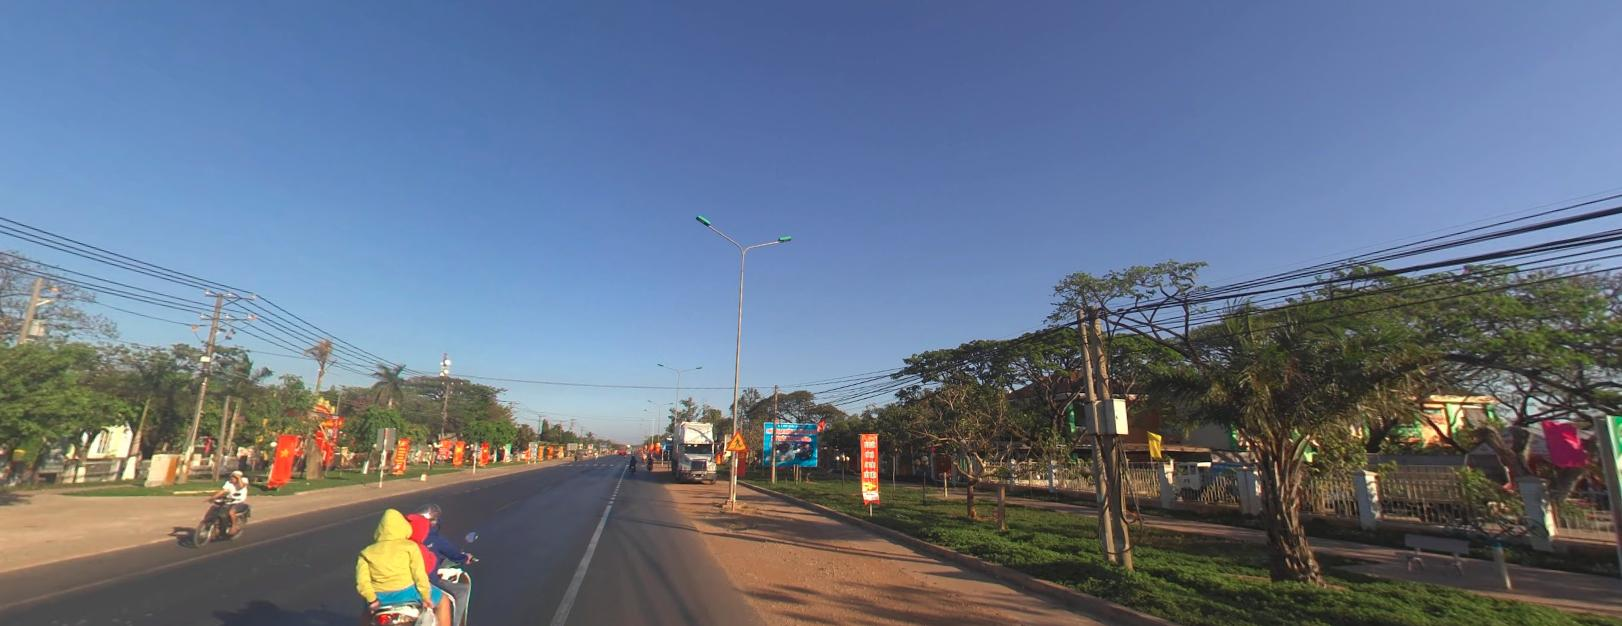Nguy hiem: (726, 428, 749, 449)
